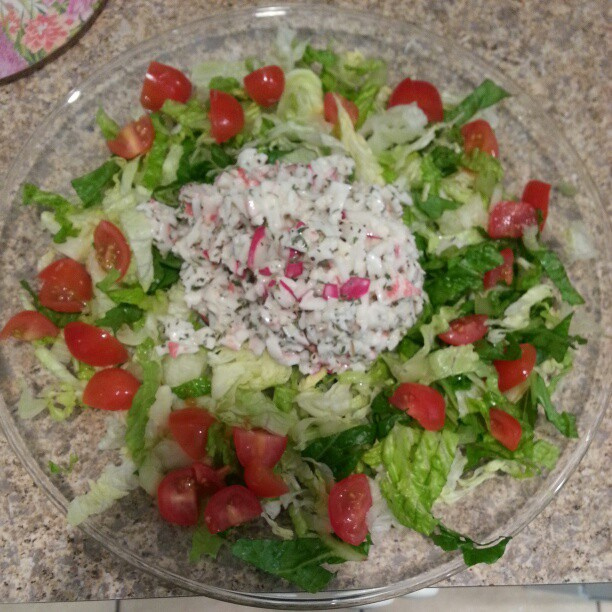chopped lettuce: (33, 56, 572, 577)
